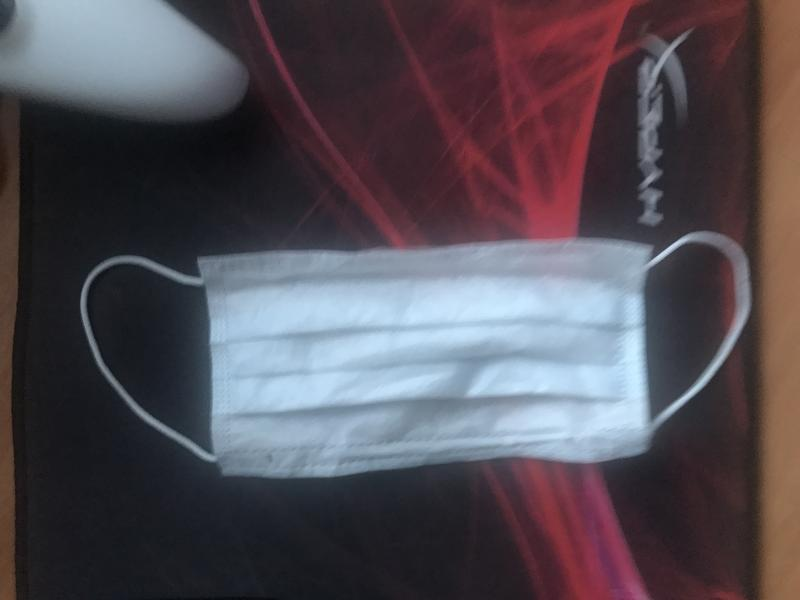medical_mask: (79, 230, 751, 477)
